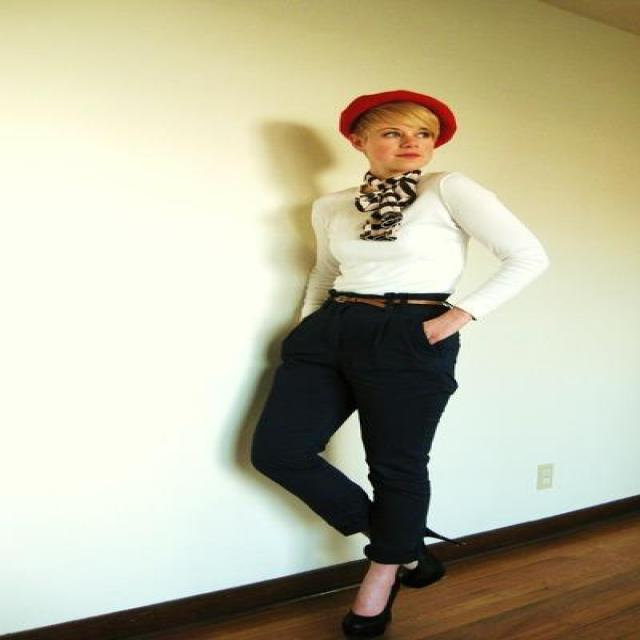hat: (341, 91, 454, 147)
pants: (251, 301, 459, 575)
shirt: (296, 172, 547, 323)
shoe: (342, 550, 461, 639)
